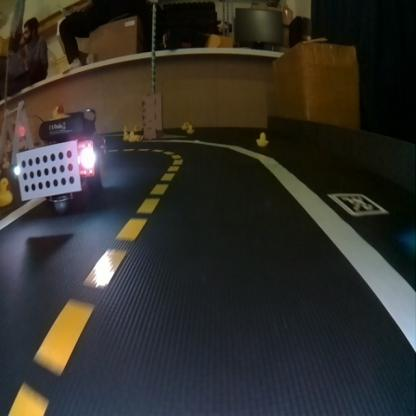Duckie: (0, 178, 12, 206), (49, 104, 69, 120), (255, 132, 268, 146), (186, 124, 194, 133), (128, 131, 135, 141), (122, 130, 129, 140), (180, 122, 186, 130)
Duckiebot: (16, 113, 102, 204)
QR code: (328, 191, 388, 216)
